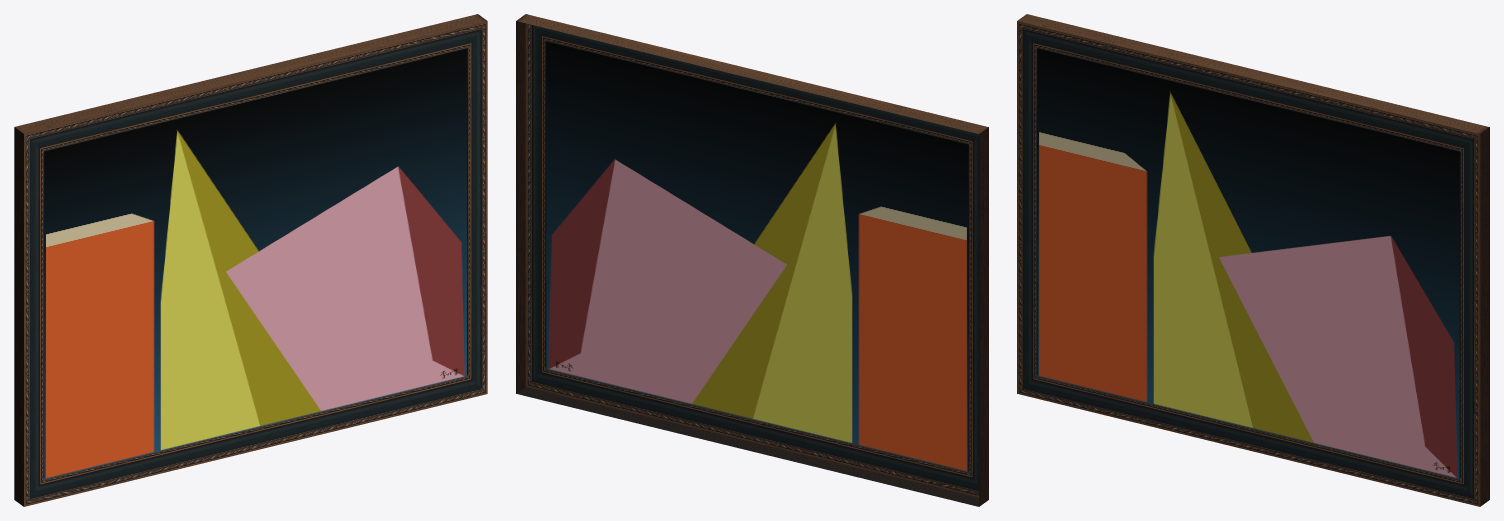
File: Frame_ah.fbx
3 renders of one model, left to right at view 1: azimuth 30°, elevation 25°; view 2: azimuth 150°, elevation 25°; view 3: azimuth 330°, elevation 25°, orthographic.
Parts seen in each view (by area): view 1: Frame_ah; view 2: Frame_ah; view 3: Frame_ah.
Boxes of the visible parts, left/top/right/bottom form: Frame_ah: left=14, top=14, right=487, bottom=506; Frame_ah: left=516, top=14, right=988, bottom=506; Frame_ah: left=1017, top=14, right=1489, bottom=506.
Size of the model in its own units: 330 by 254 by 12.12.
